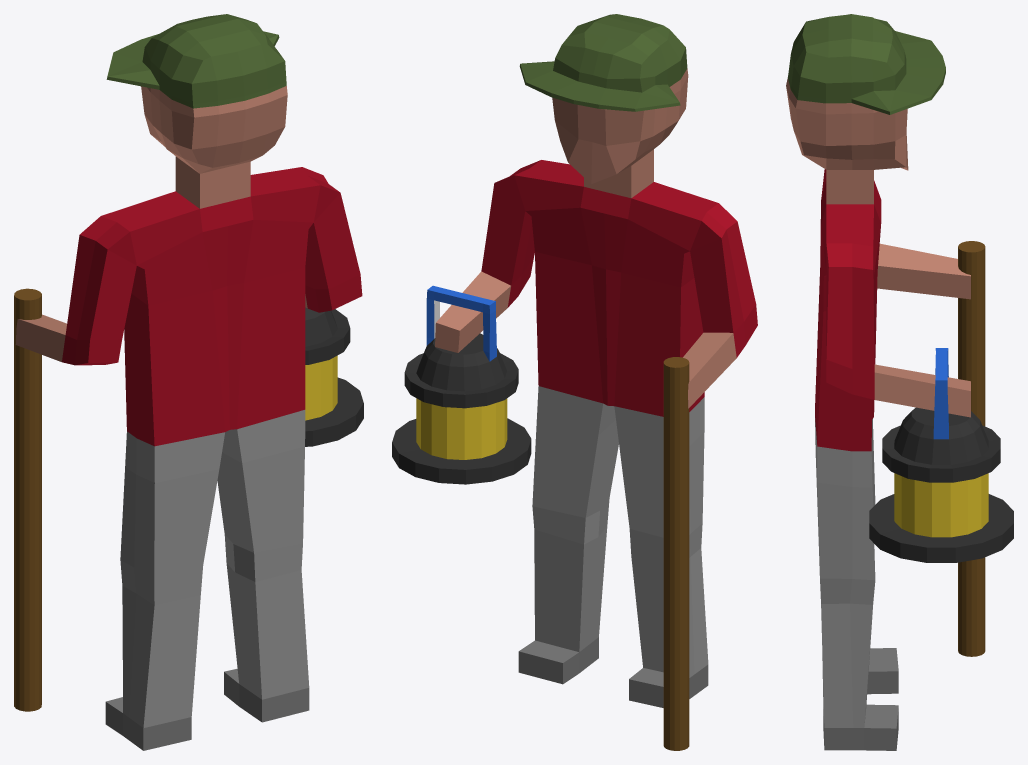
File: scout_new.glb
The picture shows the model from 3 angles, left to right: view 1: azimuth 30°, elevation 25°; view 2: azimuth 150°, elevation 25°; view 3: azimuth 270°, elevation 25°; orthographic projection. The views are drawn at different scales.
Visible parts, largest first — view 1: Cube, Cylinder, Cylinder.001; view 2: Cube, Cylinder.001, Cylinder; view 3: Cube, Cylinder.001, Cylinder.
Boxes of the visible parts, x1,y1,x2,y2 form: Cube: (15,14,362,750); Cylinder: (14,288,41,711); Cylinder.001: (305,307,363,446); Cube: (435,14,757,707); Cylinder.001: (392,285,531,484); Cylinder: (663,357,689,750); Cube: (786,14,970,750); Cylinder.001: (869,348,1013,562); Cylinder: (958,241,985,656).
Bounding box in the file's own units: 0.1315 × 0.2692 × 0.0813.
